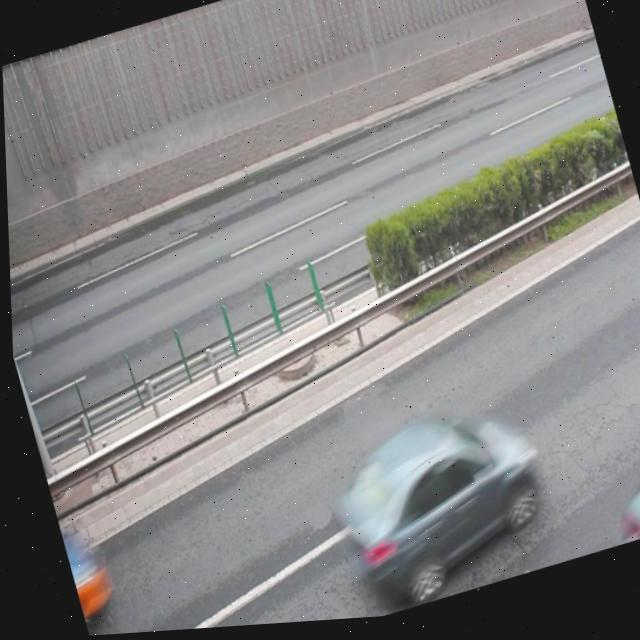car: (316, 397, 550, 614), (603, 437, 640, 550)
